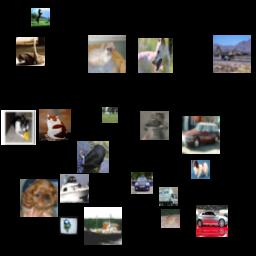airplane: (213, 35, 251, 73)
automobile: (182, 116, 220, 154), (196, 205, 228, 237), (131, 172, 153, 194)
bird: (77, 141, 109, 173), (16, 37, 45, 66), (59, 216, 78, 235), (102, 107, 118, 123)
cat: (39, 109, 71, 141), (140, 111, 169, 140)
dog: (88, 35, 126, 73), (20, 179, 58, 217), (138, 38, 173, 73), (1, 110, 36, 145), (191, 160, 210, 179)
frog: (161, 209, 180, 228)
ship: (84, 207, 122, 245), (60, 174, 89, 203)
truck: (159, 187, 178, 206)
